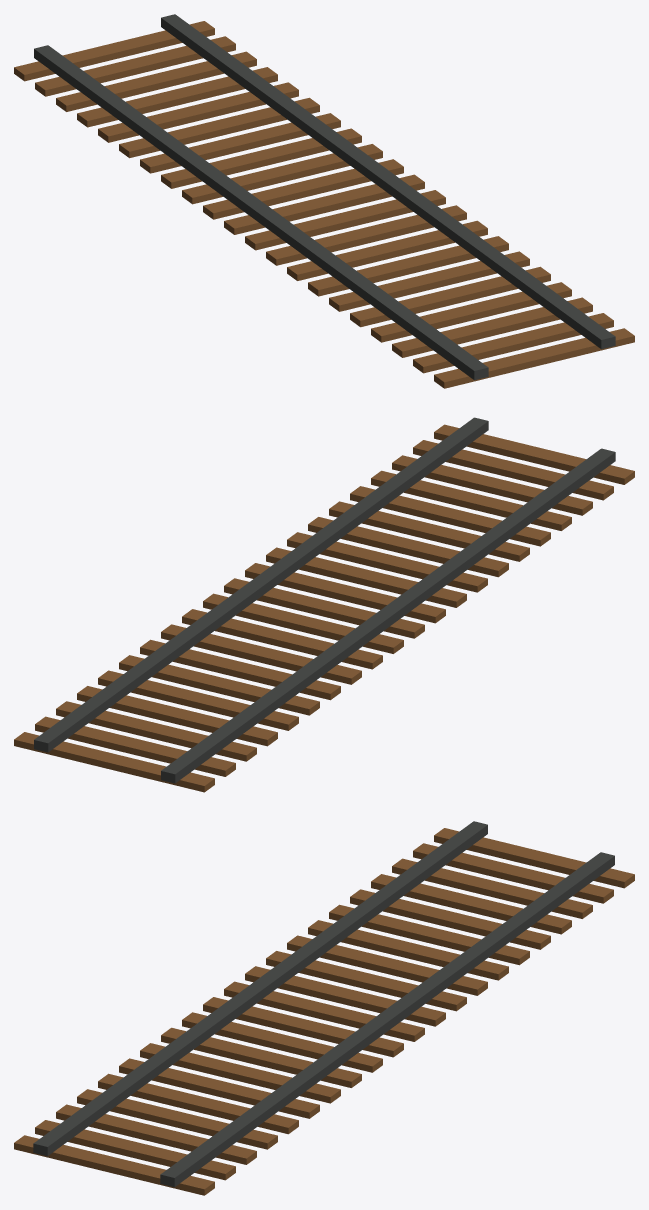
Rendered from SM_Trains_Railway_01.glb.
3 renders of one model, top to bottom at view 1: azimuth 30°, elevation 25°; view 2: azimuth 150°, elevation 25°; view 3: azimuth 330°, elevation 25°, orthographic.
Parts seen in each view (by area): view 1: SM_Trains_Railway_01; view 2: SM_Trains_Railway_01; view 3: SM_Trains_Railway_01.
Part boxes in pixels (x1=…): SM_Trains_Railway_01: x1=14, y1=14, x2=634, y2=388; SM_Trains_Railway_01: x1=14, y1=417, x2=634, y2=792; SM_Trains_Railway_01: x1=14, y1=821, x2=634, y2=1195.
Size of the model in its own units: 2.5 by 0.1957 by 10.
Materials: 1 (1 with a texture image).
